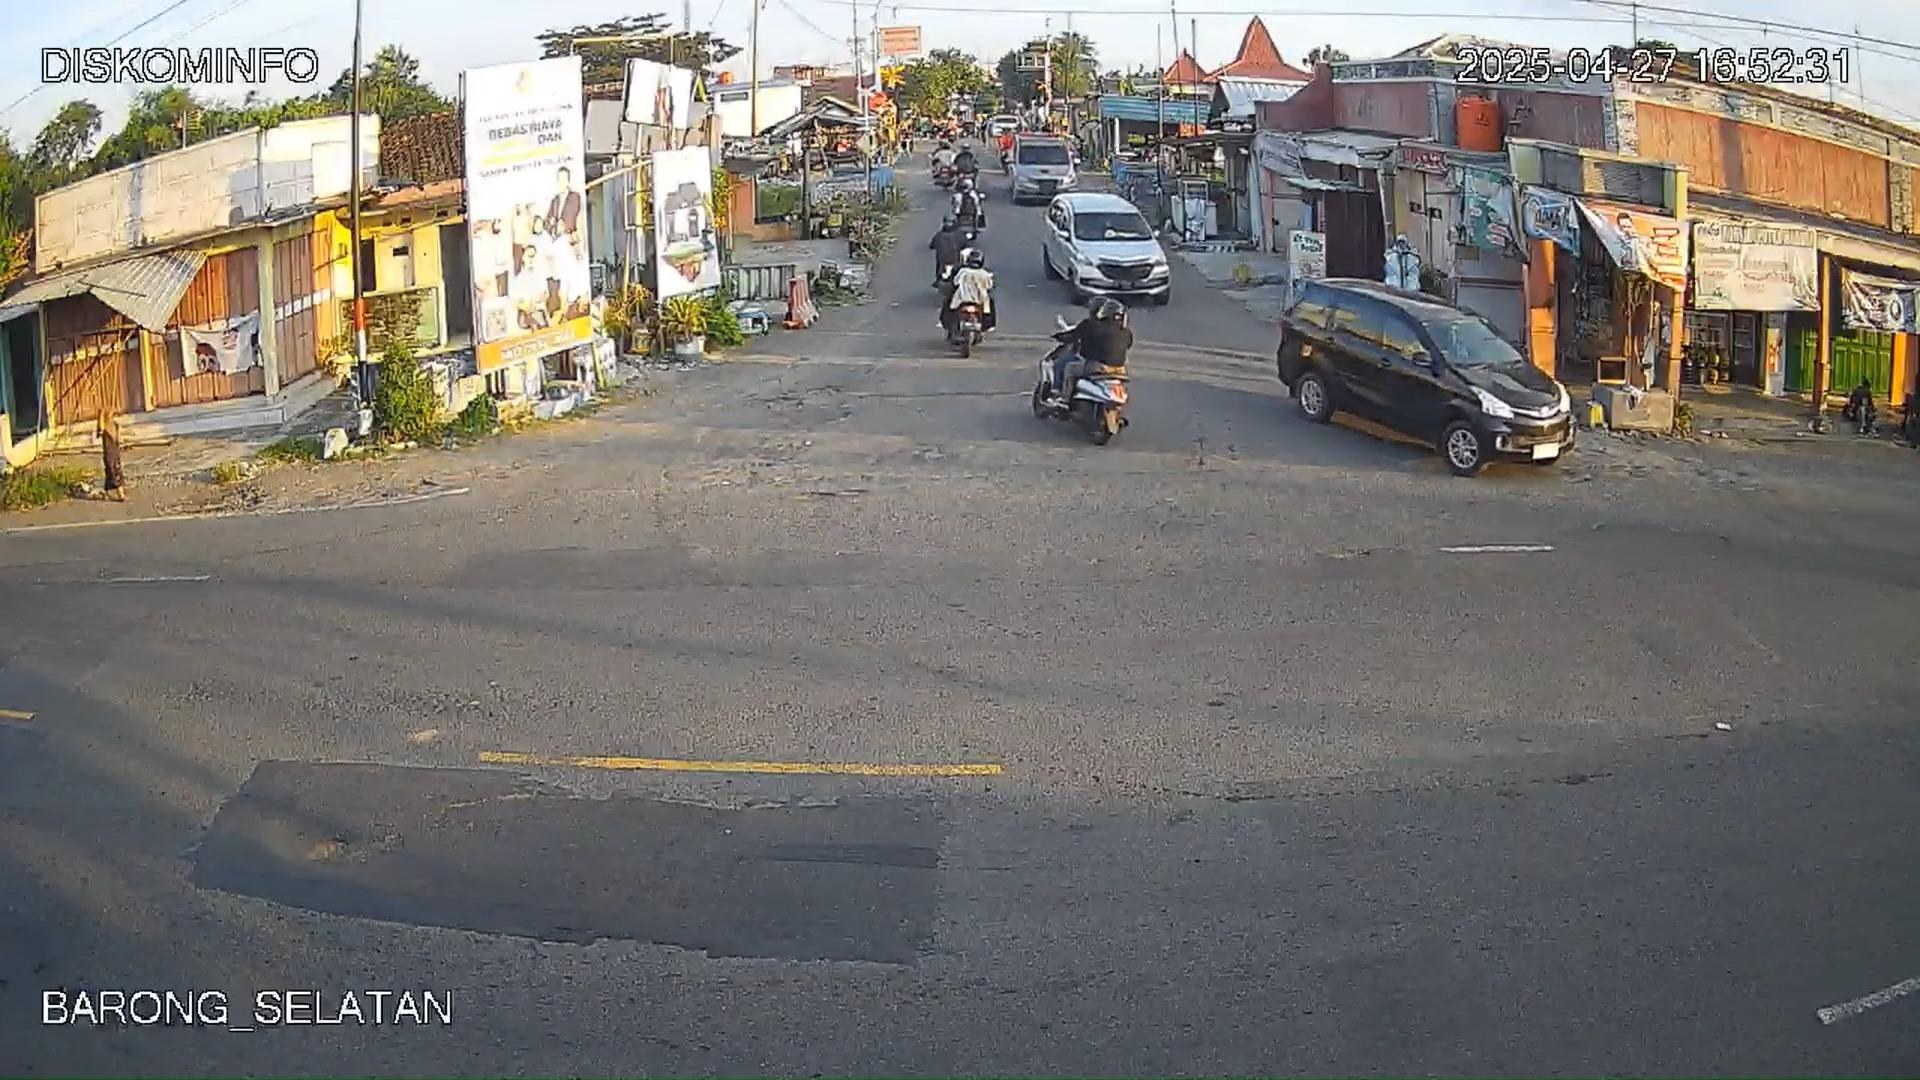Motor: (1033, 313, 1135, 446), (938, 245, 996, 348)
mobil: (1257, 262, 1575, 484), (1043, 191, 1170, 310), (1006, 132, 1079, 204)
